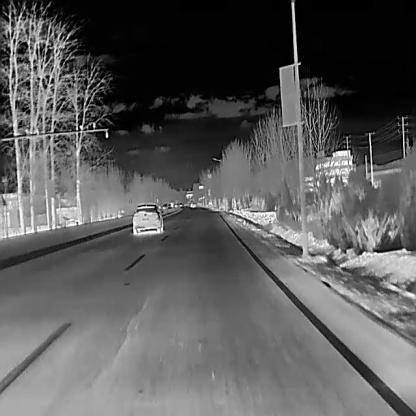car: (131, 201, 163, 235), (189, 201, 196, 208), (162, 203, 167, 209), (170, 201, 174, 207), (167, 202, 170, 208), (178, 202, 182, 206), (174, 204, 178, 206)
